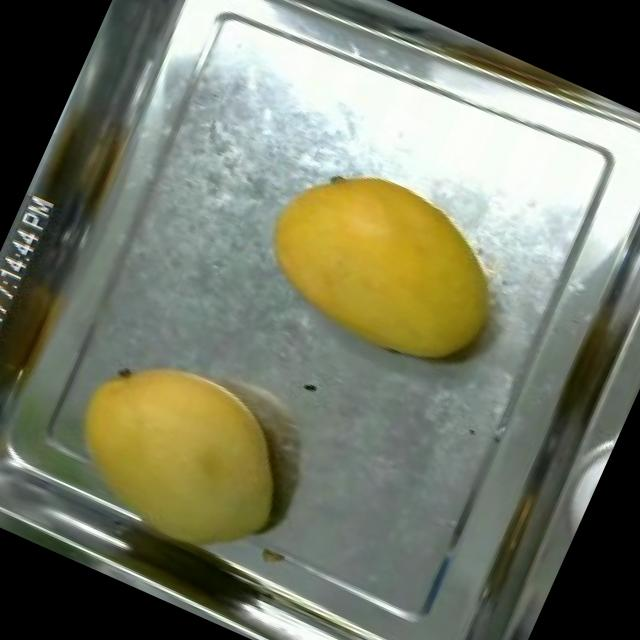fruit: (235, 133, 539, 400), (33, 321, 330, 594)
